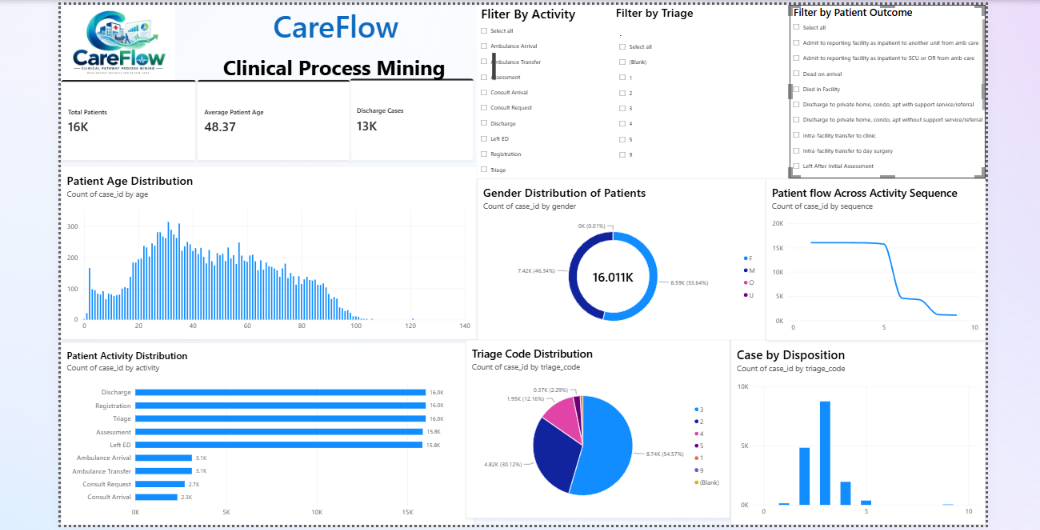

The page's visual inventory and layout, read from the dashboard file:
{"tool":"powerbi","page":{"name":"Page 1","canvas":[1920,1080],"ordinal":0},"visuals":[{"type":"cardVisual","fields":{"Data":["careflow_event_log.Total Patients","careflow_event_log.Total Patients"]},"box":[0,157,281.8,168.5],"z":0},{"type":"cardVisual","fields":{"Data":["careflow_event_log.Private Home Discharges"]},"box":[600,154,258,170],"z":1000},{"type":"cardVisual","fields":{"Data":["careflow_event_log.Average Patient Age"]},"box":[282,156,318.5,168.5],"z":2000},{"type":"clusteredBarChart","title":"Patient Activity Distribution","fields":{"Category":["careflow_event_log.activity"],"Y":["CountNonNull(careflow_event_log.case_id)"]},"box":[0,701.7,857.6,379.8],"z":3000},{"type":"clusteredColumnChart","title":"Patient Age Distribution","fields":{"Category":["careflow_event_log.age"],"Y":["Count(careflow_event_log.case_id)"]},"box":[0,326,857.6,324.7],"z":4000},{"type":"donutChart","title":"Gender Distribution of Patients","fields":{"Category":["careflow_event_log.gender"],"Y":["Count(careflow_event_log.case_id)"]},"box":[880.2,357,548.2,324.7],"z":5000},{"type":"pieChart","title":"Triage Code Distribution","fields":{"Category":["careflow_event_log.triage_code"],"Y":["Count(careflow_event_log.case_id)"]},"box":[880.2,707.8,548.2,370.6],"z":6000},{"type":"clusteredColumnChart","title":"Case by Disposition","fields":{"Category":["careflow_event_log.triage_code"],"Y":["Count(careflow_event_log.case_id)"]},"box":[1458.8,710.9,430.9,369.3],"z":7000},{"type":"slicer","fields":{"Values":["careflow_event_log.activity"]},"box":[858,0,283.1,326.2],"z":8000},{"type":"slicer","title":"Filter by Triage","fields":{"Values":["careflow_event_log.triage_code"]},"box":[1142,0,283.1,326.2],"z":9000},{"type":"slicer","fields":{"Values":["careflow_event_log.disposition_desc"]},"box":[1427.1,0,493,326.9],"z":10000},{"type":"lineChart","title":"Patient flow Across Activity Sequence","fields":{"Category":["careflow_event_log.sequence"],"Y":["CountNonNull(careflow_event_log.case_id)"]},"box":[1458.8,381.6,461.6,270.8],"z":11000},{"type":"textbox","title":"CareFlow ","box":[240,0,664,156],"z":12000},{"type":"image","box":[0,0,240,158],"z":13000}]}

Visuals, with their boxes on the page's 1920x1080 design canvas (x1, y1, x2, y2). These are canvas units, not pixel positions in the 1040x530 screenshot, which may show the page scaled, cropped or inside an application window:
cardVisual - careflow_event_log.Total Patients x careflow_event_log.Total Patients: 0/157/282/326
cardVisual - careflow_event_log.Private Home Discharges: 600/154/858/324
cardVisual - careflow_event_log.Average Patient Age: 282/156/600/324
"Patient Activity Distribution" clusteredBarChart: 0/702/858/1082
"Patient Age Distribution" clusteredColumnChart: 0/326/858/651
"Gender Distribution of Patients" donutChart: 880/357/1428/682
"Triage Code Distribution" pieChart: 880/708/1428/1078
"Case by Disposition" clusteredColumnChart: 1459/711/1890/1080
slicer - careflow_event_log.activity: 858/0/1141/326
"Filter by Triage" slicer: 1142/0/1425/326
slicer - careflow_event_log.disposition_desc: 1427/0/1920/327
"Patient flow Across Activity Sequence" lineChart: 1459/382/1920/652
"CareFlow " textbox: 240/0/904/156
image: 0/0/240/158
